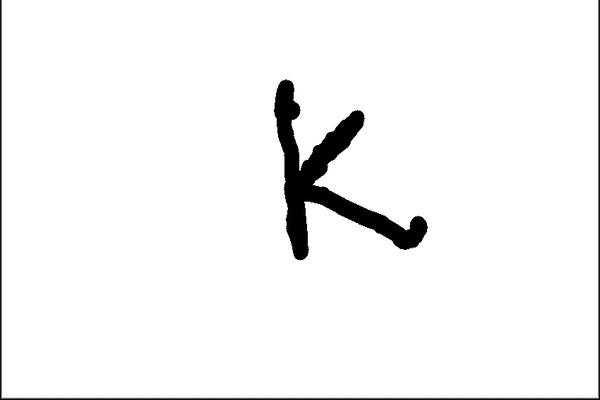K: (267, 72, 436, 268)
